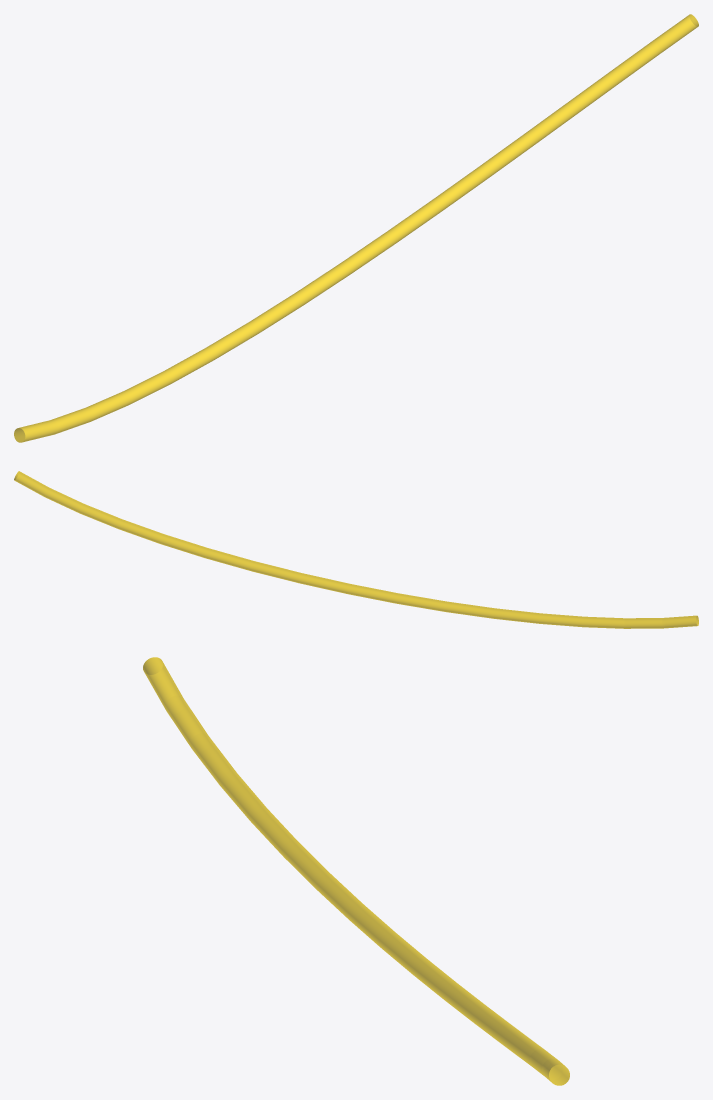
The model's file is Event_84804159_track_92.fbx.
3 renders of one model, top to bottom at view 1: azimuth 30°, elevation 25°; view 2: azimuth 150°, elevation 25°; view 3: azimuth 270°, elevation 25°, orthographic. The views are drawn at different scales.
Parts seen in each view (by area): view 1: Model; view 2: Model; view 3: Model.
Part boxes in pixels (bbox=[...]): Model: bbox=[14, 14, 698, 442]; Model: bbox=[14, 471, 698, 628]; Model: bbox=[143, 657, 569, 1085].
Bounding box in the file's own units: 2.52 × 0.405 × 0.8005.
